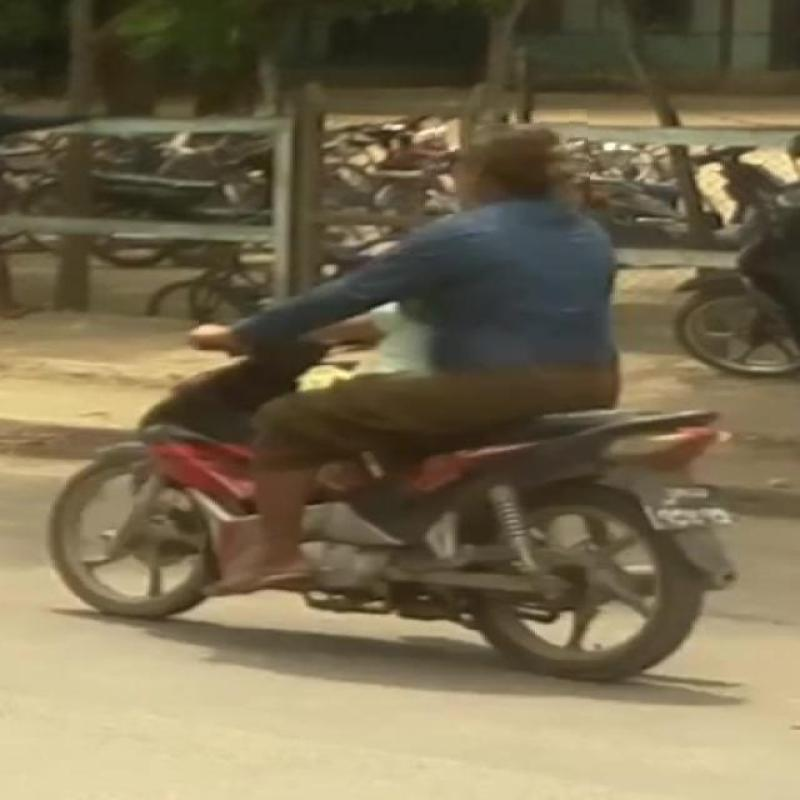nohelmet: (436, 110, 590, 214)
